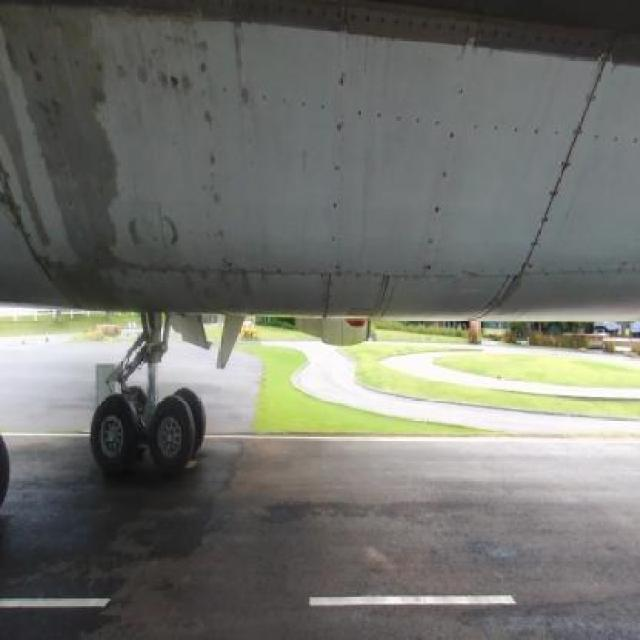Missing-Rivet: (262, 0, 610, 80), (449, 100, 640, 178), (232, 77, 443, 145), (28, 40, 226, 102), (192, 24, 234, 281), (89, 256, 382, 290), (460, 259, 638, 295), (326, 43, 356, 248), (505, 173, 569, 255), (420, 155, 446, 276)
Scartch: (0, 4, 157, 322), (158, 254, 262, 323), (116, 195, 189, 256), (237, 87, 260, 115)
